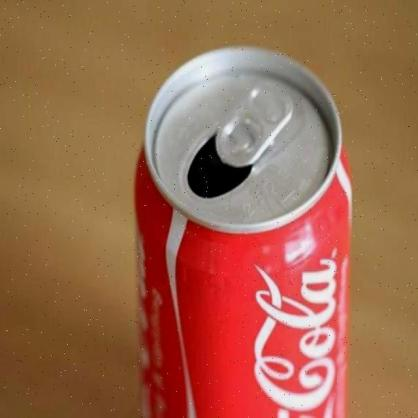can: (134, 44, 349, 418)
